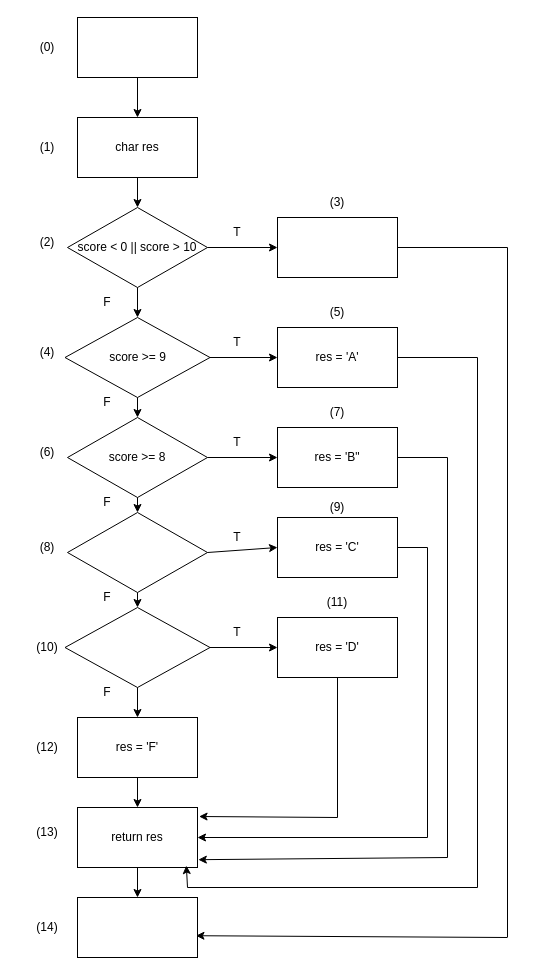
Image size: 533x975. Some labels were removed from this diagram. Each missing label, with the centre of its shape:
"entry" goes at point 137,47.
"exit" goes at point 137,927.
"return 'I'" goes at point 337,247.
"score >= 5" goes at point 137,647.
"score >= 6.5" goes at point 137,552.
